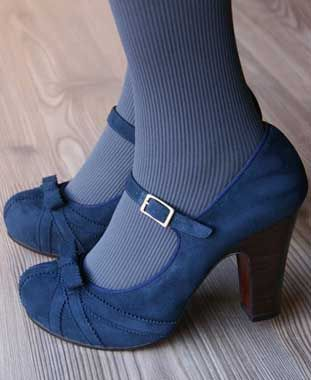gamuza: (2, 119, 309, 349)
